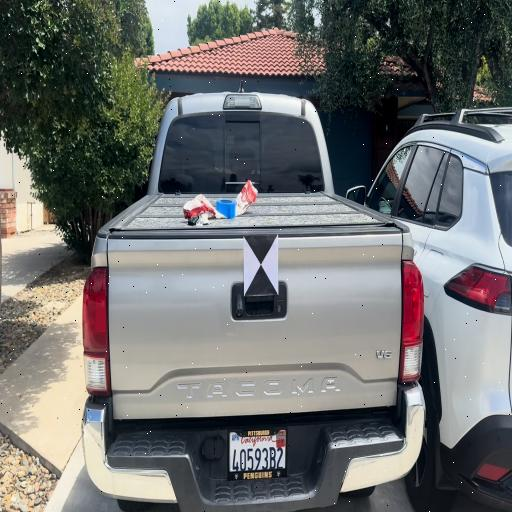target: (244, 235, 279, 296)
